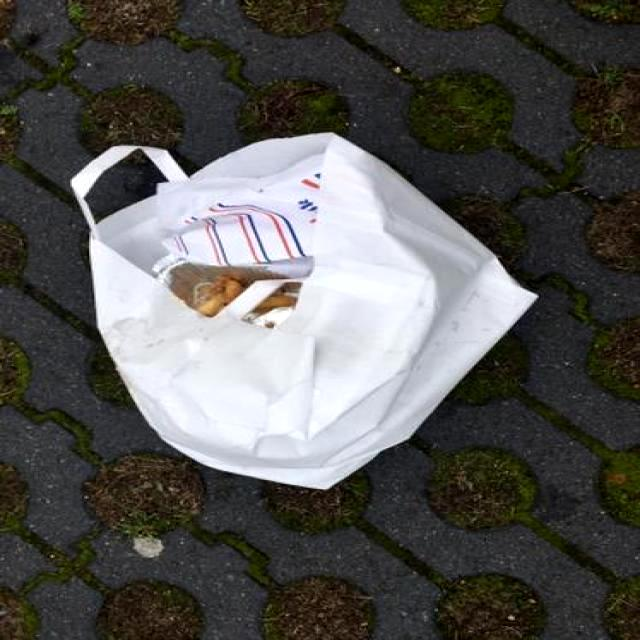Paper: (67, 128, 543, 494)
